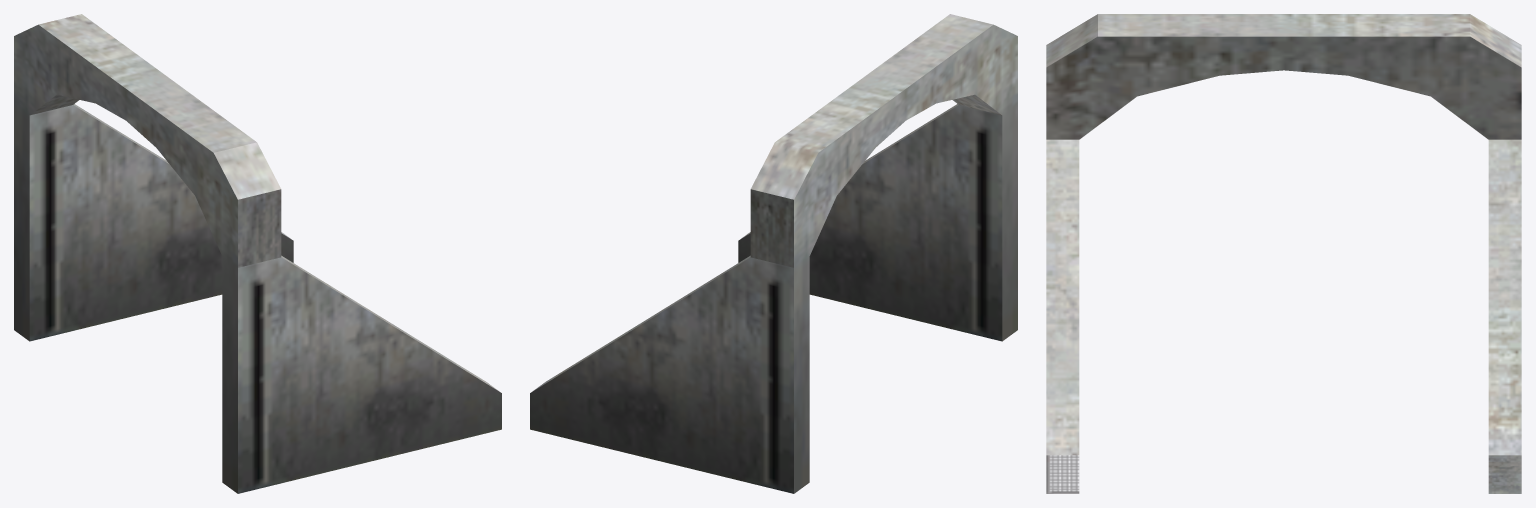
The model's file is Civilian - Civilian Building - Soccer Stadium Entrance - CBStadGate.glb.
The picture shows the model from 3 angles, left to right: view 1: azimuth 30°, elevation 25°; view 2: azimuth 150°, elevation 25°; view 3: azimuth 270°, elevation 25°; orthographic projection. The views are drawn at different scales.
Parts seen in each view (by area): view 1: CBSTADGATE; view 2: CBSTADGATE; view 3: CBSTADGATE.
Part boxes in pixels (x1,y1,x2,y2): CBSTADGATE: (14,14,501,493); CBSTADGATE: (530,14,1017,493); CBSTADGATE: (1046,14,1521,493).
Bounding box in the file's own units: 43.1 × 50.46 × 63.29.
Materials: 1 (1 with a texture image).
